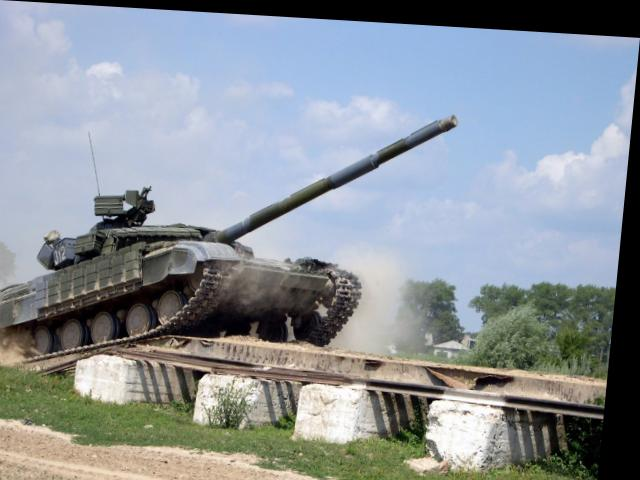tank: (0, 181, 371, 371)
